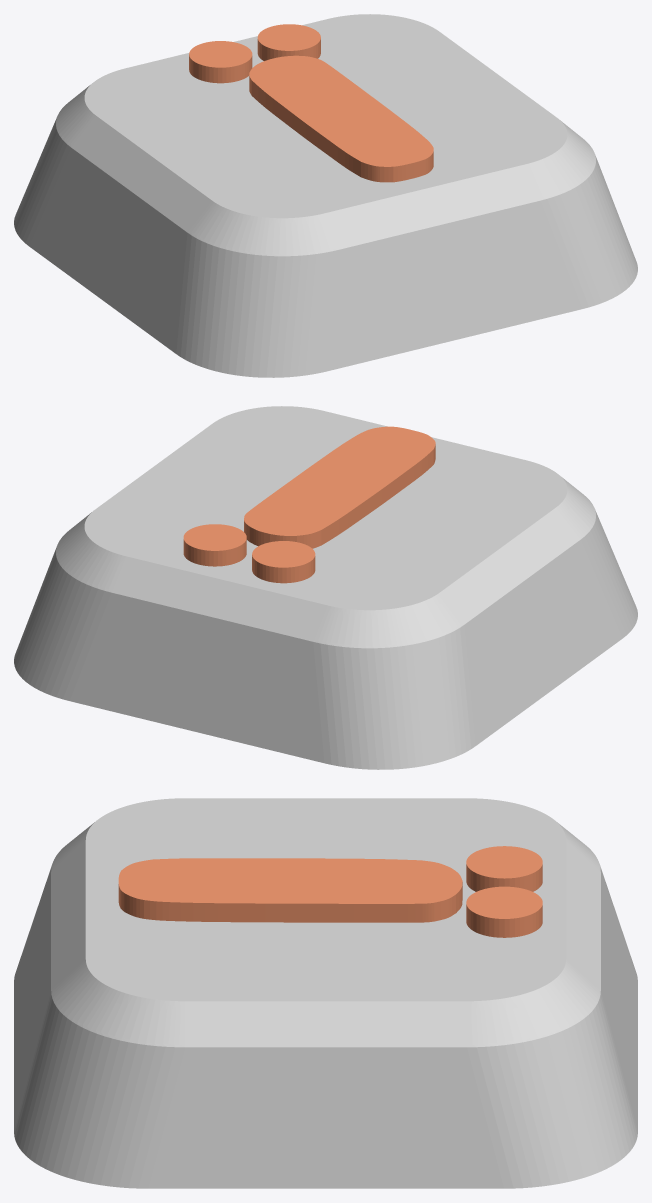
The model's file is cap-i_diaeresis.glb.
3 renders of one model, top to bottom at view 1: azimuth 30°, elevation 25°; view 2: azimuth 150°, elevation 25°; view 3: azimuth 270°, elevation 25°, orthographic. The views are drawn at different scales.
Visible parts, largest first — view 1: cap_1, glyph_0; view 2: cap_1, glyph_0; view 3: cap_1, glyph_0.
Boxes of the visible parts, x1,y1,x2,y2 form: cap_1: (14,14,637,377); glyph_0: (189,24,433,182); cap_1: (14,406,637,769); glyph_0: (183,426,435,583); cap_1: (14,798,637,1188); glyph_0: (118,846,542,937).
Size of the model in its own units: 18 by 5.6 by 18.
